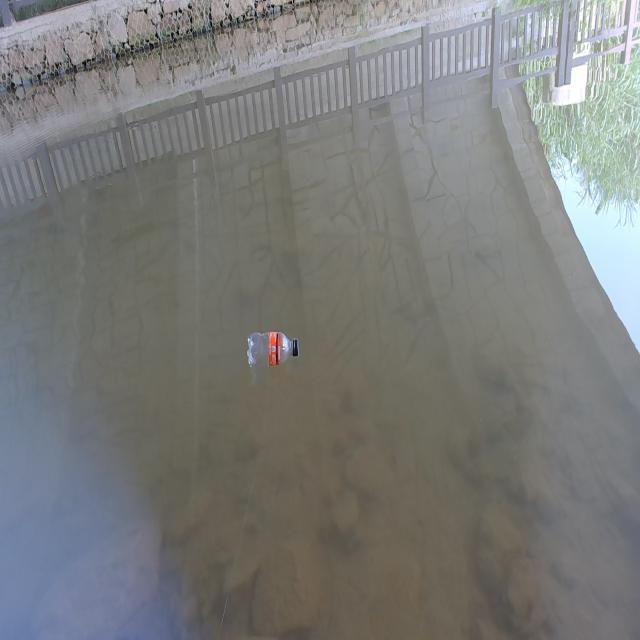garbage: (246, 330, 298, 368)
